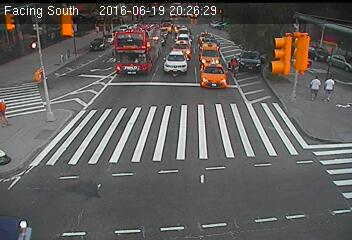neg: (201, 158, 228, 193), (195, 81, 218, 112), (33, 58, 53, 85), (86, 108, 105, 133), (163, 129, 181, 154), (142, 174, 160, 198), (47, 181, 65, 205), (225, 52, 242, 75), (274, 131, 291, 153), (86, 73, 102, 95), (242, 161, 258, 182), (299, 160, 315, 181), (129, 129, 144, 150), (145, 75, 160, 95), (239, 99, 254, 118), (122, 56, 136, 75), (88, 186, 102, 205), (172, 51, 185, 68), (81, 39, 92, 54)
pos: (322, 72, 342, 99), (306, 74, 324, 98)
